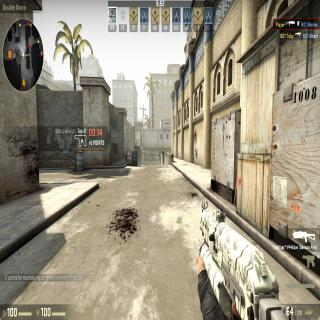T-Body: (135, 140, 137, 148)
